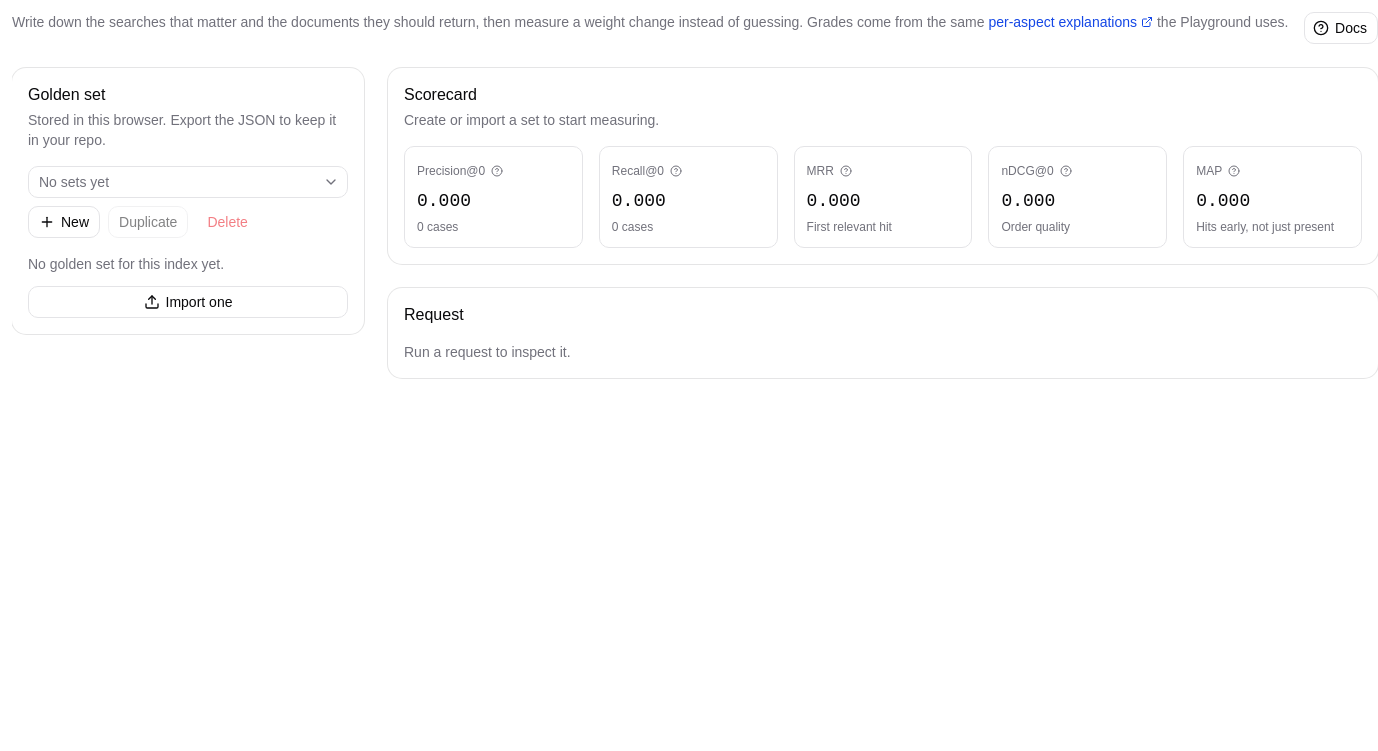
IndexScorecardPage › creates an unnamed set and puts the cursor in the name field
The width and height of the screenshot is (1378, 751).
Click the button "New": (64, 222) top-left (28, 206), bottom-right (100, 238)
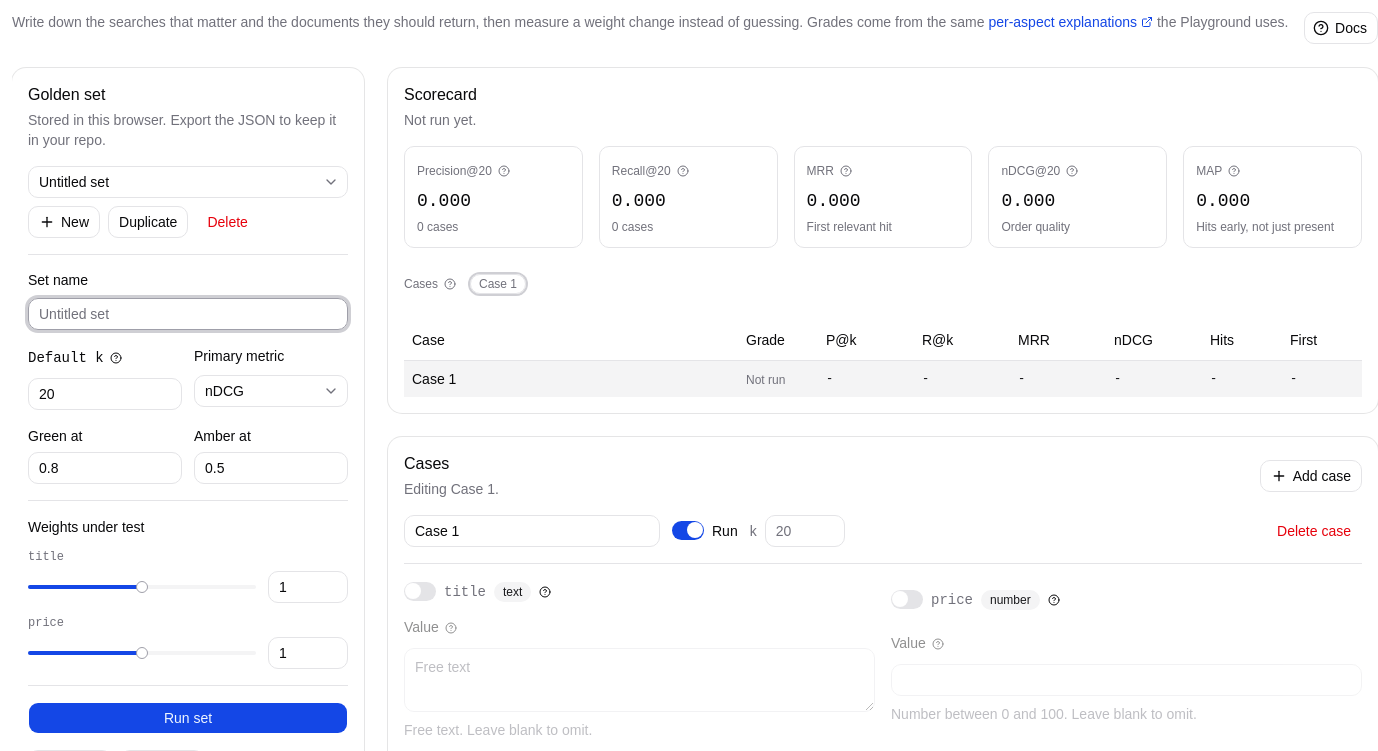
Now the field labelled "Set name" is empty, box top-left (28, 298), bottom-right (348, 330)
Now the dropdown named "Golden set" shows "Untitled set", box top-left (28, 166), bottom-right (348, 198)
